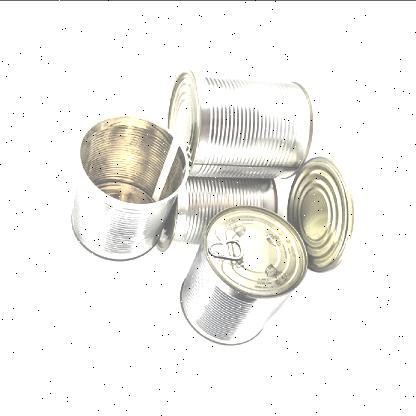Can: (175, 201, 311, 347), (67, 109, 194, 265), (160, 64, 316, 180), (144, 164, 282, 254), (279, 149, 365, 275)
